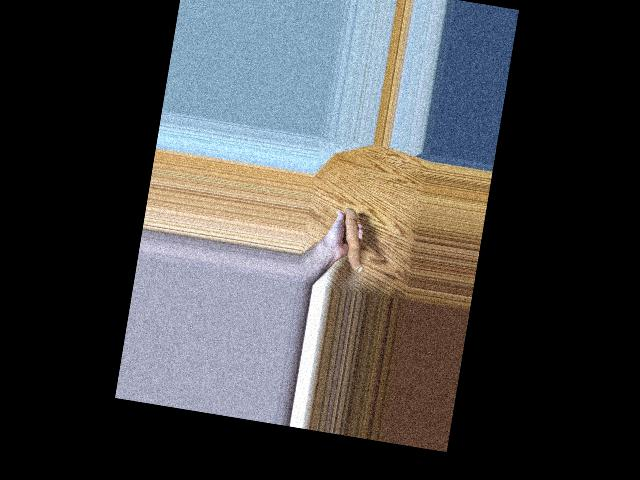sweet_potato: (335, 206, 362, 271)
